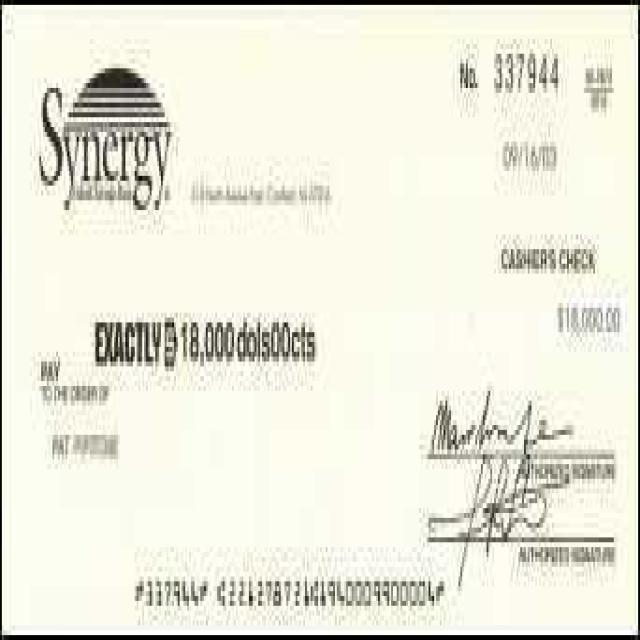signature: (414, 440, 570, 581), (417, 357, 582, 469)
